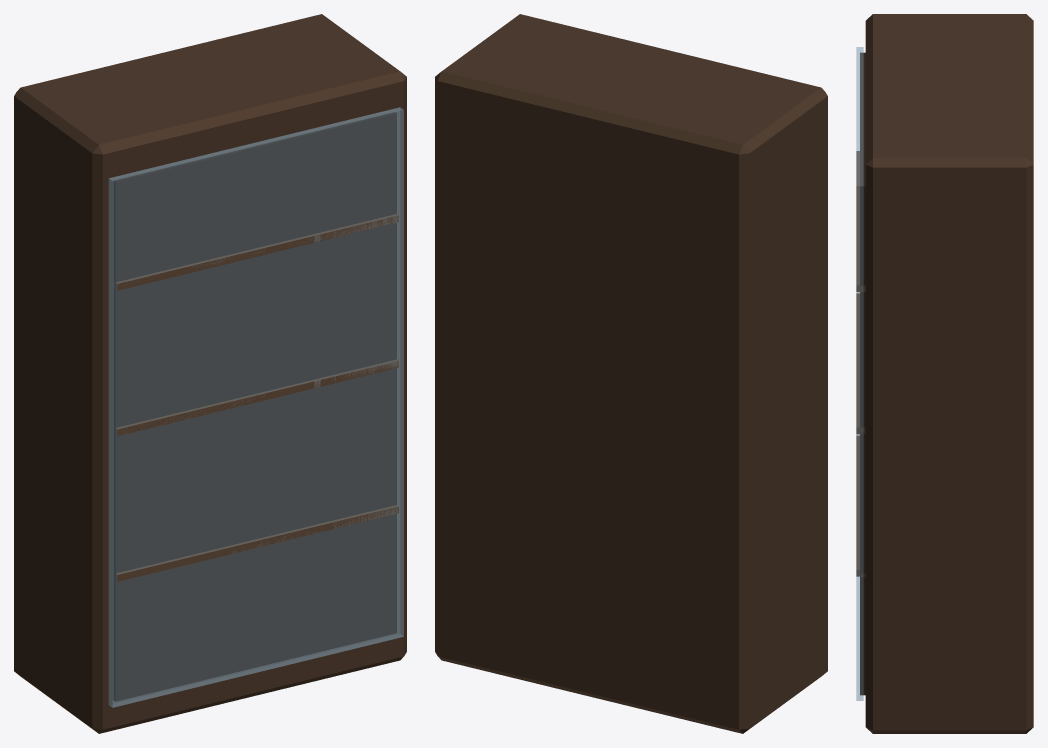
Rendered from trophy_cabinet.glb.
3 renders of one model, left to right at view 1: azimuth 30°, elevation 25°; view 2: azimuth 150°, elevation 25°; view 3: azimuth 270°, elevation 25°, orthographic. The views are drawn at different scales.
Visible parts, largest first — view 1: trophy_cabinet_mesh; view 2: trophy_cabinet_mesh; view 3: trophy_cabinet_mesh.
Boxes of the visible parts, left/top/right/bottom form: trophy_cabinet_mesh: left=14, top=14, right=406, bottom=733; trophy_cabinet_mesh: left=435, top=14, right=827, bottom=733; trophy_cabinet_mesh: left=856, top=14, right=1033, bottom=733.
Bounding box in the file's own units: 0.95 × 1.7 × 0.475.
